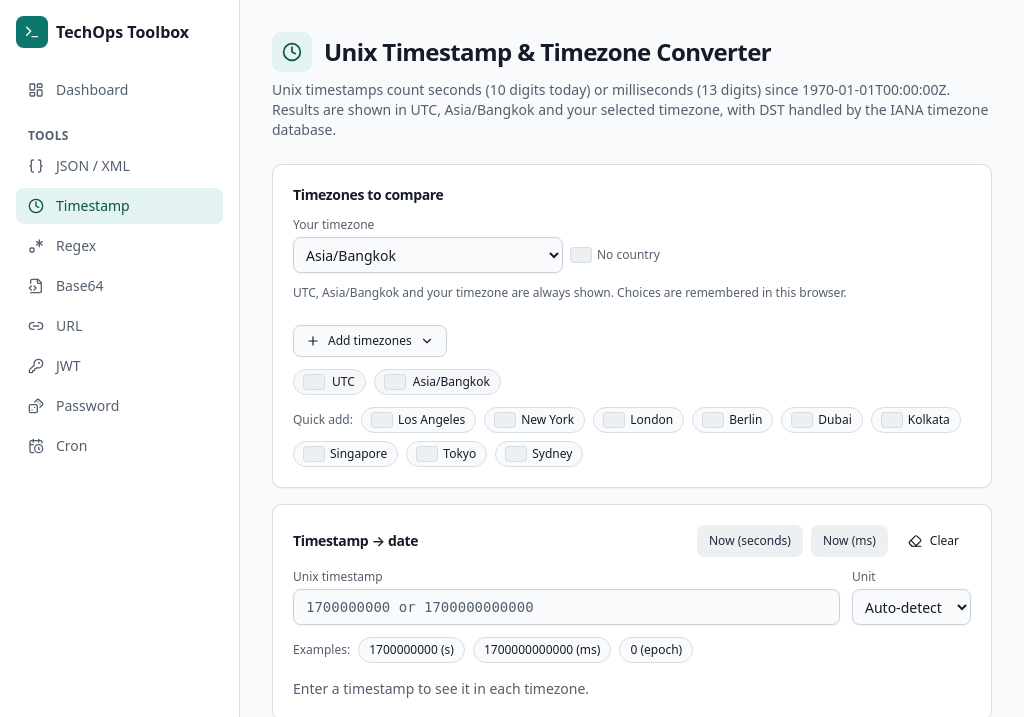
Scenario: Timestamp page: flags and multi-timezone comparison › supports quick add and removing a compared zone
Type "1700000000" into the field labelled "Unix timestamp" at (566, 607), box [293,589,840,625]
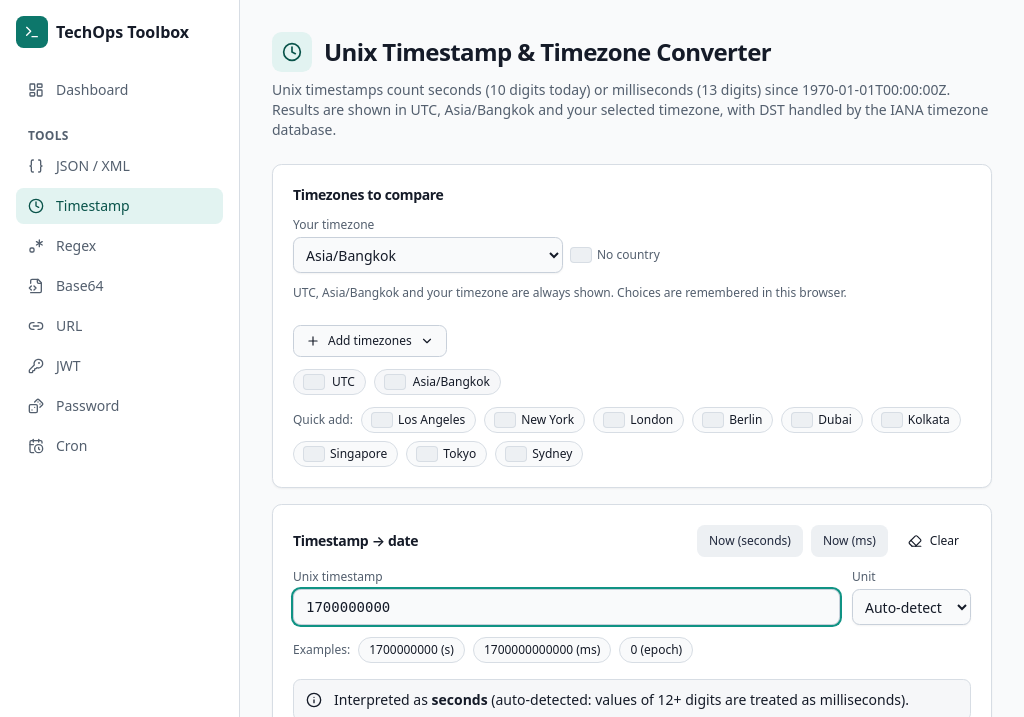
Click the button "London" at (639, 420), box [593,407,684,433]
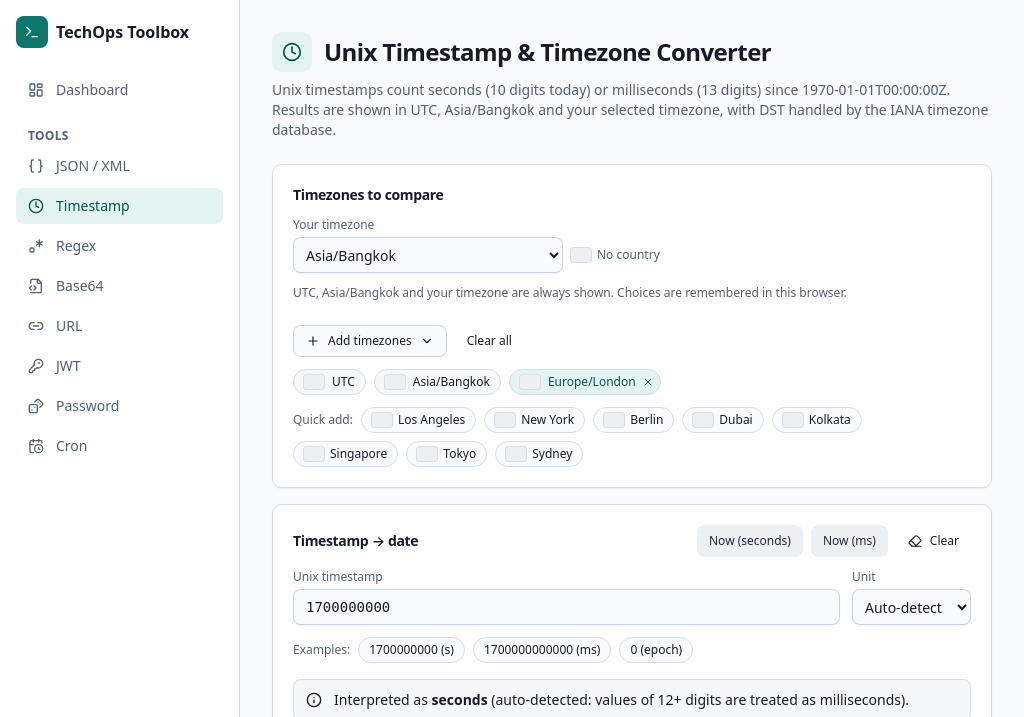
Click the button named "Remove Europe/London" at (648, 382), box [640,374,656,390]
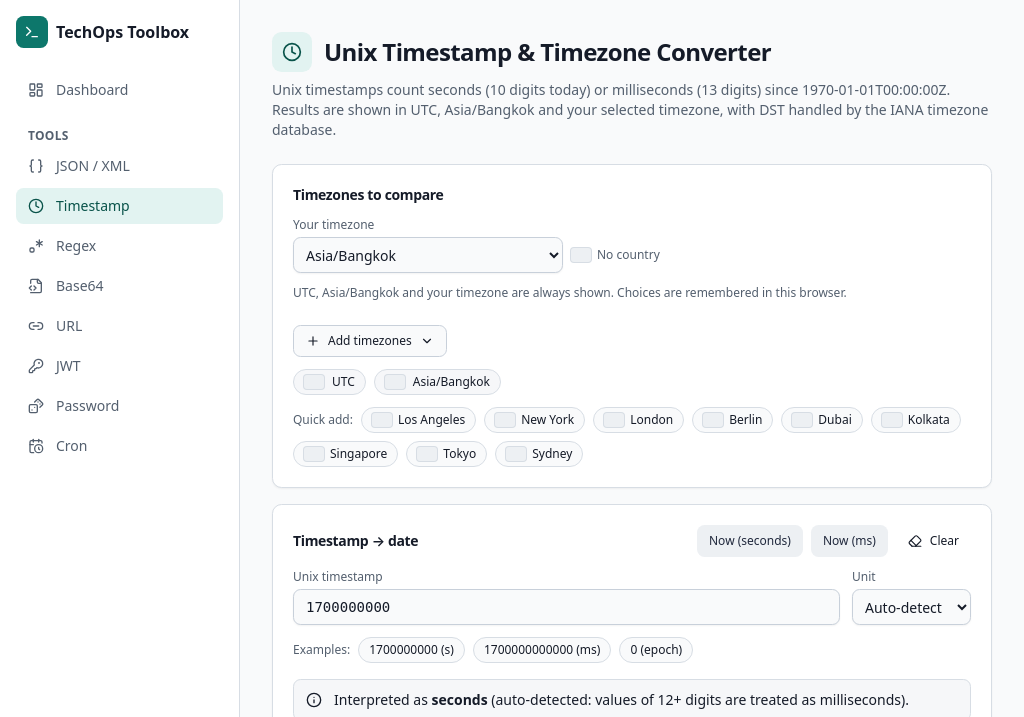
expect the text "Europe/London" is gone: met
